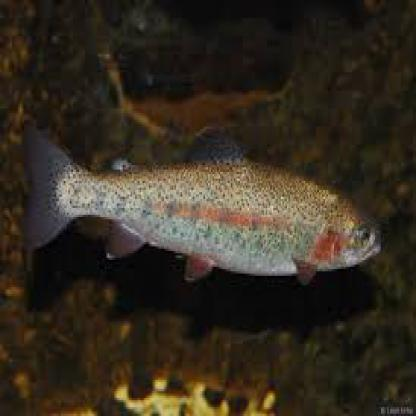fish: (20, 115, 380, 287)
